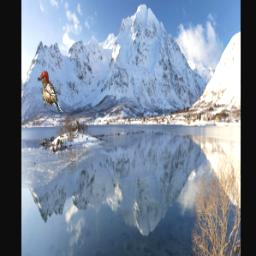Woodpecker: (38, 71, 63, 113)
